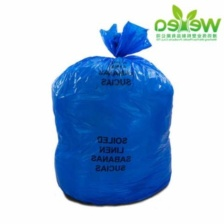plastic_bag: (40, 17, 176, 209)
